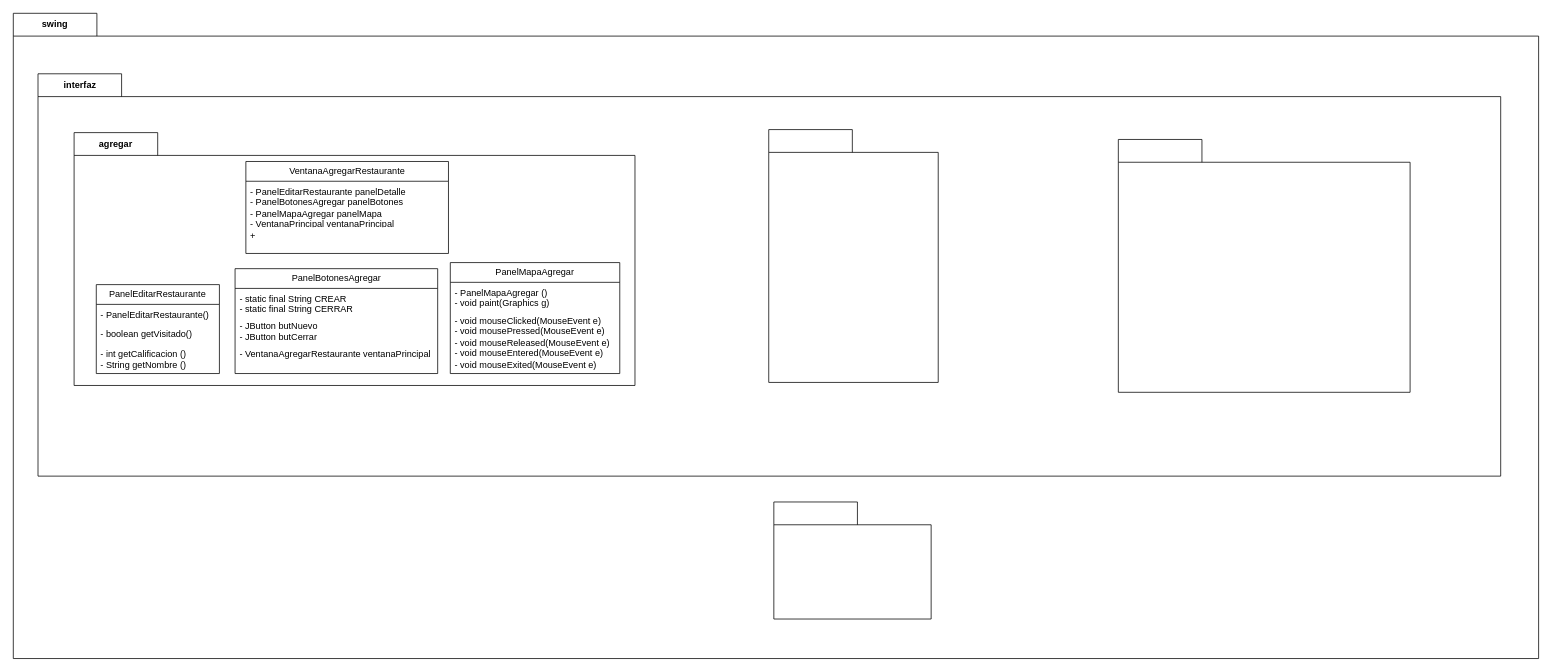
The diagram is 1552 pixels wide and 672 high, and some of its shapes have lost their labels. The centre of each missing label's shape, as x and y in pixels:
"mapa" belongs at point 853,255.
"mundo" belongs at point 852,560.
"principal" belongs at point 1264,265.
